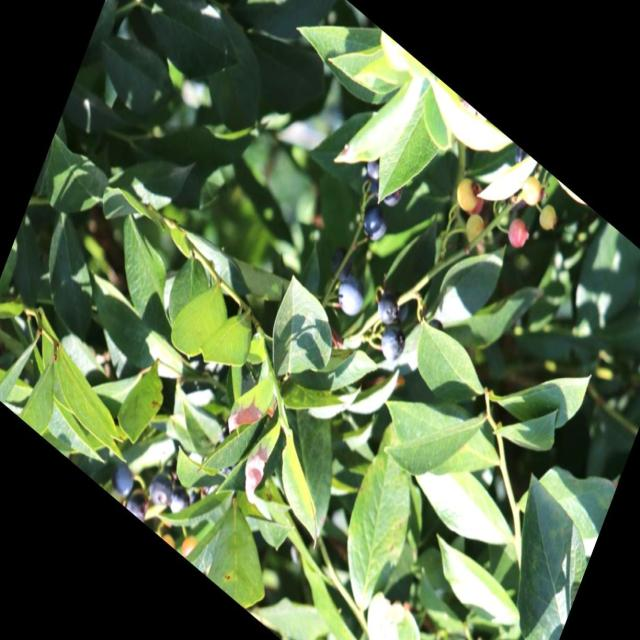blueberry: (333, 265, 369, 320), (374, 315, 408, 368), (141, 464, 176, 514), (371, 286, 403, 333), (356, 205, 388, 251)
blueberry-halfripe: (504, 212, 531, 254)
blueberry-unripe: (448, 166, 485, 218), (459, 205, 489, 251), (516, 168, 546, 212), (534, 197, 560, 237)
